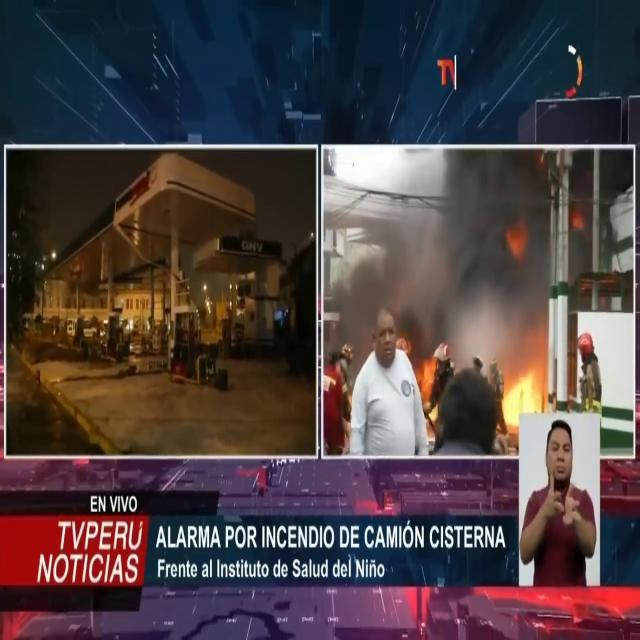Fire: (496, 362, 550, 434), (412, 345, 448, 439)
Smoke: (353, 145, 560, 356)
